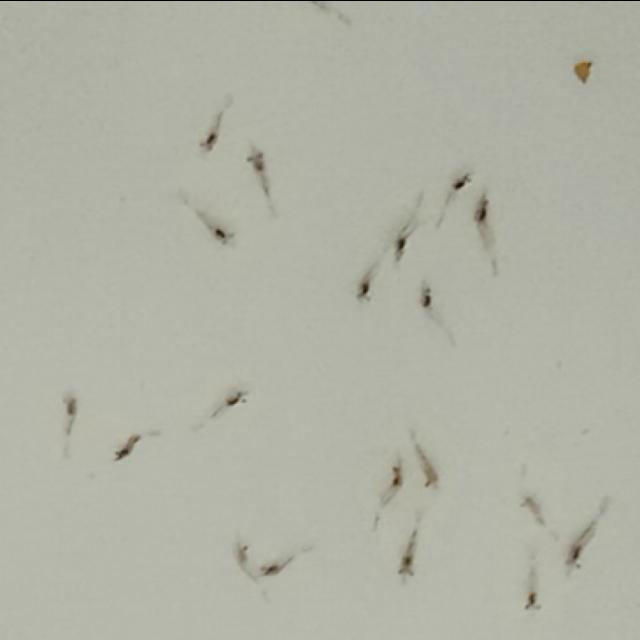shrimp-seed: (558, 540, 596, 582), (395, 549, 424, 588), (520, 488, 550, 522), (384, 457, 412, 493), (262, 553, 295, 583), (241, 140, 272, 170), (208, 220, 242, 247), (470, 190, 496, 224), (114, 432, 140, 466), (231, 540, 258, 572), (418, 461, 446, 491), (223, 384, 253, 412), (195, 126, 222, 154), (520, 584, 546, 612), (59, 394, 85, 422), (416, 282, 438, 314), (448, 170, 477, 194), (353, 276, 377, 302), (392, 235, 413, 262)
